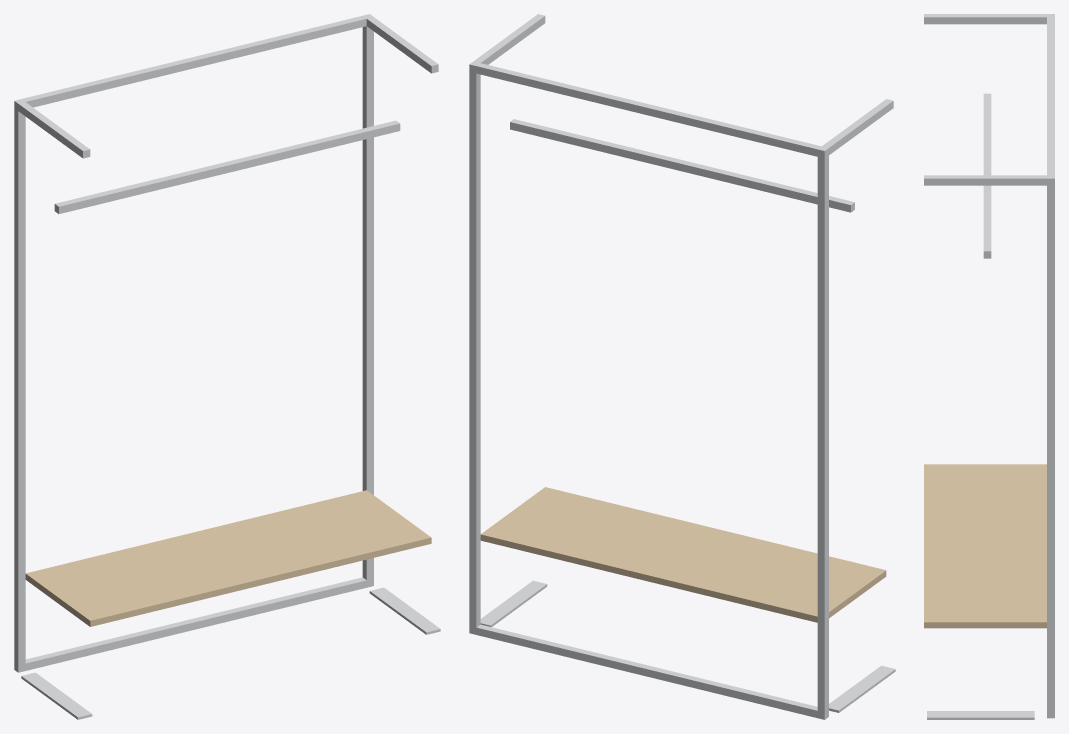
3 views of the same model, side by side, from view 1: azimuth 30°, elevation 25°; view 2: azimuth 150°, elevation 25°; view 3: azimuth 270°, elevation 25° (orthographic). The views are drawn at different scales.
Bounding box in the file's own units: 1.53 × 2.29 × 0.502.
